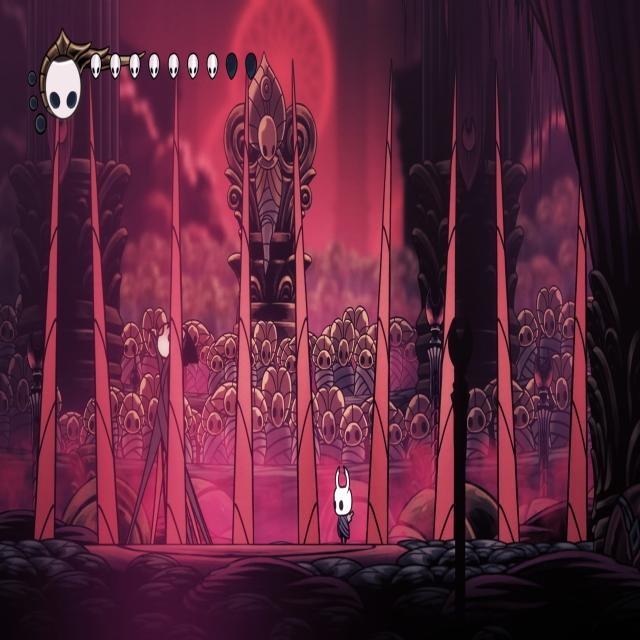Grimm: (128, 280, 214, 546)
Player: (332, 463, 358, 548)
Spikes: (162, 122, 197, 547), (290, 107, 321, 556), (365, 91, 392, 548), (231, 108, 257, 560), (90, 138, 118, 540), (494, 122, 520, 543), (32, 123, 56, 541), (434, 122, 457, 544), (568, 108, 590, 528)
